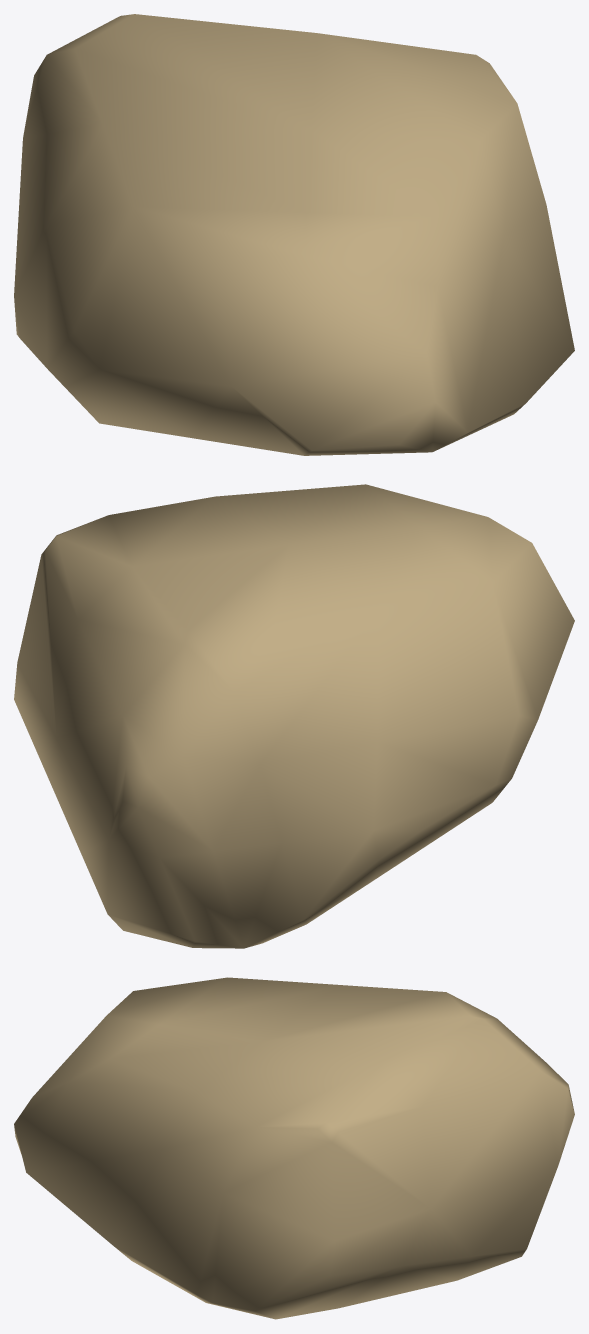
Rendered from rock_06_low.fbx.
The picture shows the model from 3 angles, top to bottom: view 1: azimuth 30°, elevation 25°; view 2: azimuth 150°, elevation 25°; view 3: azimuth 270°, elevation 25°; orthographic projection. The views are drawn at different scales.
Parts seen in each view (by area): view 1: rock_06_low; view 2: rock_06_low; view 3: rock_06_low.
Boxes of the visible parts, <box> form: rock_06_low: <box>14,14,574,455</box>; rock_06_low: <box>14,484,574,948</box>; rock_06_low: <box>14,977,574,1319</box>.
Bounding box in the file's own units: 110 × 69.33 × 147.
